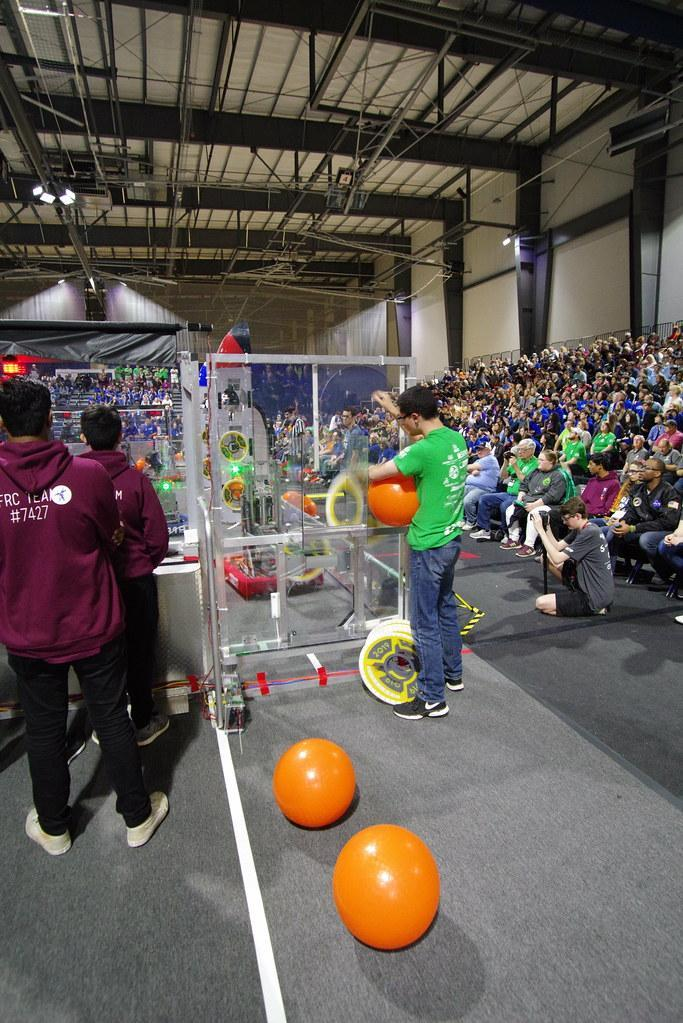robot: (214, 437, 333, 599), (134, 477, 200, 543)
